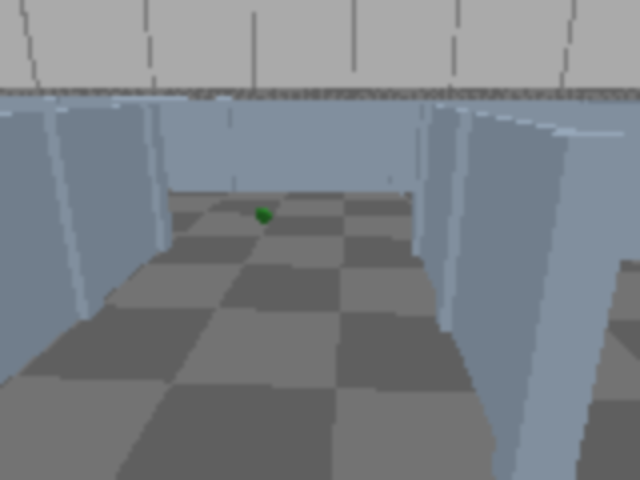puck: (254, 205, 272, 225)
